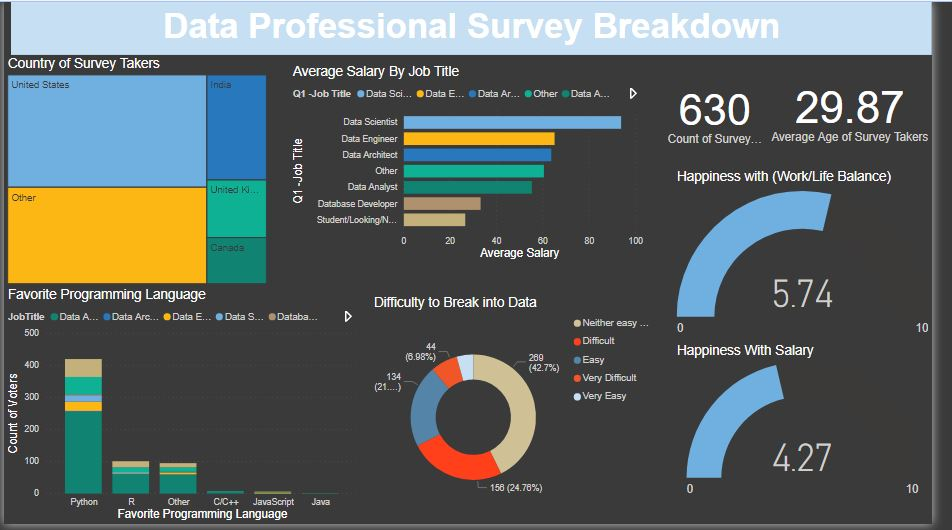

The dashboard page shown, as its layout file describes it:
{"tool":"powerbi","page":{"name":"Page 1","canvas":[1280,720],"ordinal":0},"visuals":[{"type":"textbox","box":[9.7,0,1270.3,73.1],"z":0},{"type":"card","fields":{"Values":["Count(Data Professional Survey.Unique ID)"]},"box":[909,73.1,143.4,157.2],"z":1000},{"type":"card","fields":{"Values":["Avg(Data Professional Survey.Q10 - Current Age)"]},"box":[1052.4,74.5,227.6,149],"z":2000},{"type":"barChart","title":"Average Salary By Job Title","fields":{"Category":["Data Professional Survey.Q1 - Which Title Best Fits your Current Role?.1"],"Y":["Avg(Data Professional Survey.Average Salary)"],"Series":["Data Professional Survey.Q1 - Which Title Best Fits your Current Role?.1"]},"box":[393.1,85.5,493.8,274.5],"z":3000},{"type":"columnChart","title":"Favorite Programming Language","fields":{"Category":["Data Professional Survey.Q5 - Favorite Programming Language.1"],"Y":["CountNonNull(Data Professional Survey.Unique ID)"],"Series":["Data Professional Survey.Q1 - Which Title Best Fits your Current Role?.1"]},"box":[0,393.1,493.8,326.9],"z":4000},{"type":"treemap","title":"Country of Survey Takers","fields":{"Group":["Data Professional Survey.Q11 - Which Country do you live in?.1"],"Values":["CountNonNull(Data Professional Survey.Q11 - Which Country do you live in?.1)"]},"box":[0,74.5,366.9,318.6],"z":5000},{"type":"gauge","title":"Happiness with (Work/Life Balance)","fields":{"Y":["Avg(Data Professional Survey.Q6 - How Happy are you in your Current Position with the following? (Work/Life Balance))"],"MinValue":["Min(Data Professional Survey.Q6 - How Happy are you in your Current Position with the following? (Work/Life Balance))1"],"MaxValue":["Max(Data Professional Survey.Q6 - How Happy are you in your Current Position with the following? (Work/Life Balance))2"]},"box":[922.8,230.3,357.2,240],"z":6000},{"type":"gauge","title":"Happiness With Salary","fields":{"Y":["Avg(Data Professional Survey.Q6 - How Happy are you in your Current Position with the following? (Salary))"],"MinValue":["Min(Data Professional Survey.Q6 - How Happy are you in your Current Position with the following? (Salary))"],"MaxValue":["Max(Data Professional Survey.Q6 - How Happy are you in your Current Position with the following? (Salary))"]},"box":[922.8,470.3,357.2,217.9],"z":7000},{"type":"donutChart","title":"Difficulty to Break into Data","fields":{"Y":["CountNonNull(Data Professional Survey.Average Salary)"],"Series":["Data Professional Survey.Q7 - How difficult was it for you to break into Data?"]},"box":[504.8,404.1,404.1,315.9],"z":8000}]}

Visuals, with their boxes in screenshot pixels (x1, y1, x2, y2), scaled from the page's 1280x720 canvas onto the 952x530 screenshot:
textbox: 7/0/951/54
card - Count(Data Professional Survey.Unique ID): 676/54/783/170
card - Avg(Data Professional Survey.Q10 - Current Age): 783/55/951/165
"Average Salary By Job Title" barChart: 292/63/660/265
"Favorite Programming Language" columnChart: 0/289/367/529
"Country of Survey Takers" treemap: 0/55/273/289
"Happiness with (Work/Life Balance)" gauge: 686/170/951/346
"Happiness With Salary" gauge: 686/346/951/507
"Difficulty to Break into Data" donutChart: 375/297/676/529
